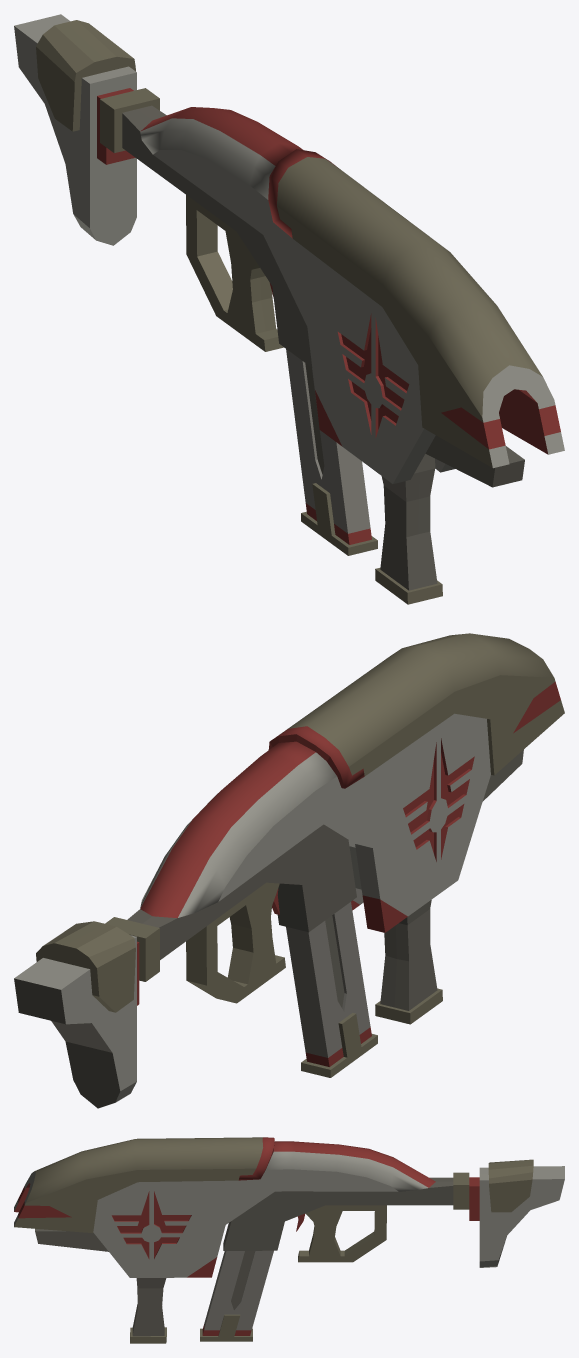
Rendered from P7 Hornet.fbx.
The picture shows the model from 3 angles, top to bottom: view 1: azimuth 30°, elevation 25°; view 2: azimuth 150°, elevation 25°; view 3: azimuth 270°, elevation 25°; orthographic projection. The views are drawn at different scales.
Parts seen in each view (by area): view 1: Cube, Cube.001; view 2: Cube, Cube.001; view 3: Cube, Cube.001.
Part boxes in pixels (bbox=[...]): Cube: bbox=[14, 14, 564, 604]; Cube.001: bbox=[286, 349, 377, 555]; Cube: bbox=[14, 633, 564, 1108]; Cube.001: bbox=[286, 902, 377, 1077]; Cube: bbox=[14, 1137, 564, 1343]; Cube.001: bbox=[200, 1250, 273, 1341].
Size of the model in its own units: 10.12 by 47.91 by 120.
